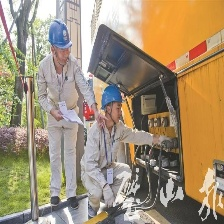helmet: (48, 18, 72, 50), (100, 85, 124, 116)
no-vest: (39, 59, 78, 132), (89, 121, 124, 202)
person: (37, 17, 80, 206), (91, 88, 134, 217)
